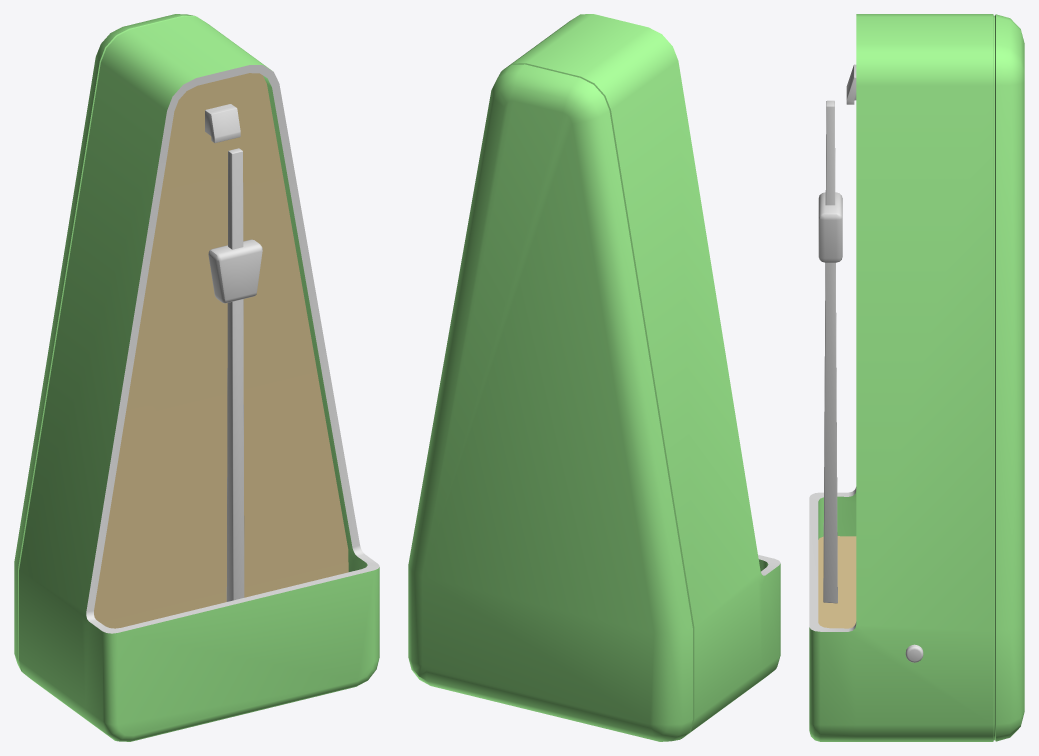
The model's file is Enemy_metronome.fbx.
The picture shows the model from 3 angles, left to right: view 1: azimuth 30°, elevation 25°; view 2: azimuth 150°, elevation 25°; view 3: azimuth 270°, elevation 25°; orthographic projection. The views are drawn at different scales.
Visible parts, largest first — view 1: metronome; view 2: metronome; view 3: metronome.
Part boxes in pixels (x1,y1,x2,y2): metronome: [14, 14, 379, 741]; metronome: [408, 14, 780, 741]; metronome: [809, 14, 1024, 741].
Bounding box in the file's own units: 6.67 × 14.27 × 4.27.
